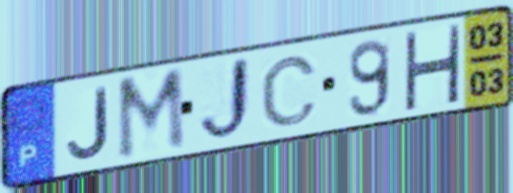9: (345, 37, 393, 118)
C: (258, 54, 321, 129)
H: (400, 22, 464, 112)
J: (195, 53, 254, 146), (64, 84, 112, 162)
M: (113, 64, 188, 165)
